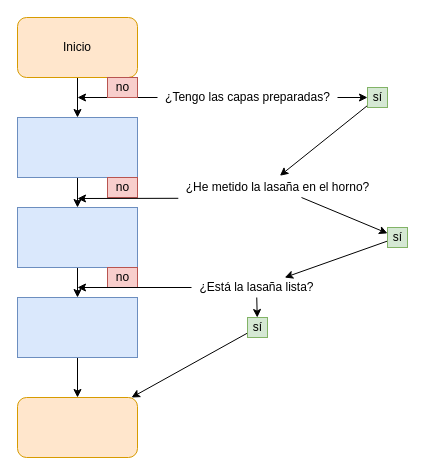
This 425x475 diagram has some shape labels left out. The shapes that lost their labels are listed below. From the top down, each one's box as (x1, y1, x2, y2) in pixels, then its label:
(16, 116, 138, 178): Preparar las capas de la lasaña
(16, 206, 138, 268): Meter la lasaña en el horno
(16, 296, 138, 358): Esperar a que la lasaña esté lista
(16, 396, 138, 458): Fin
